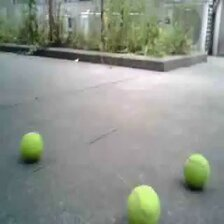tennis: (127, 184, 159, 224), (184, 155, 208, 190), (20, 133, 41, 162)
